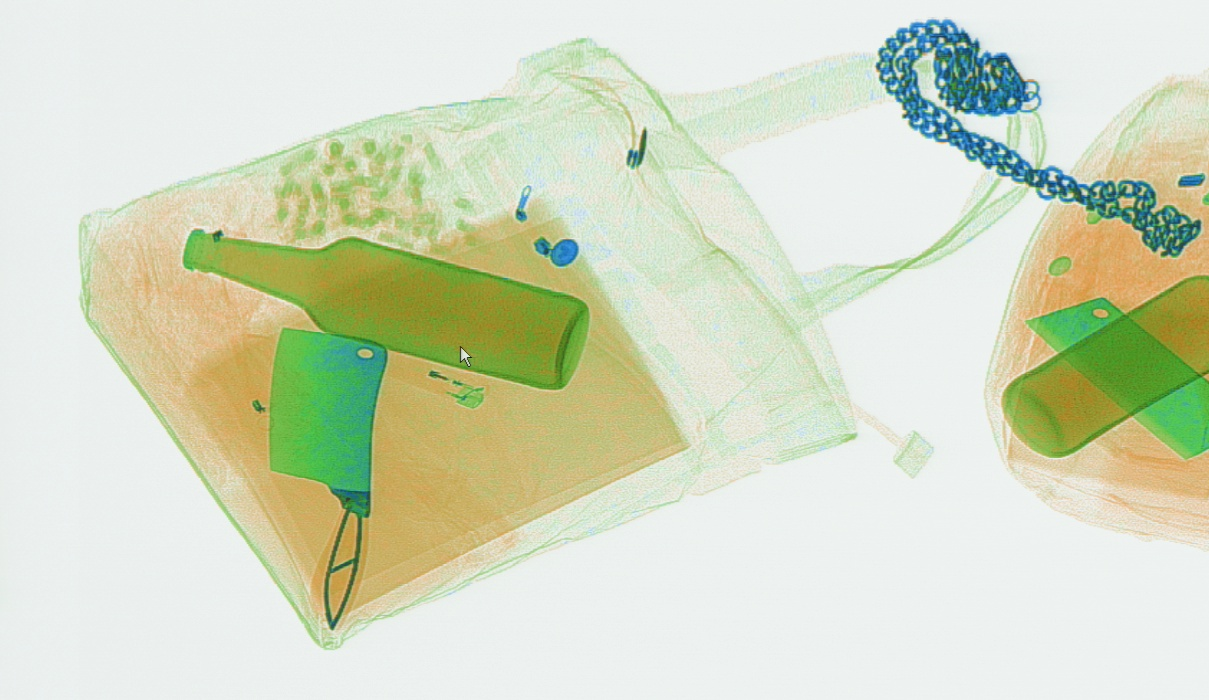firecrackers: (272, 130, 492, 256)
knife: (263, 324, 388, 633), (1018, 293, 1205, 460)
lighter: (372, 348, 487, 409)
